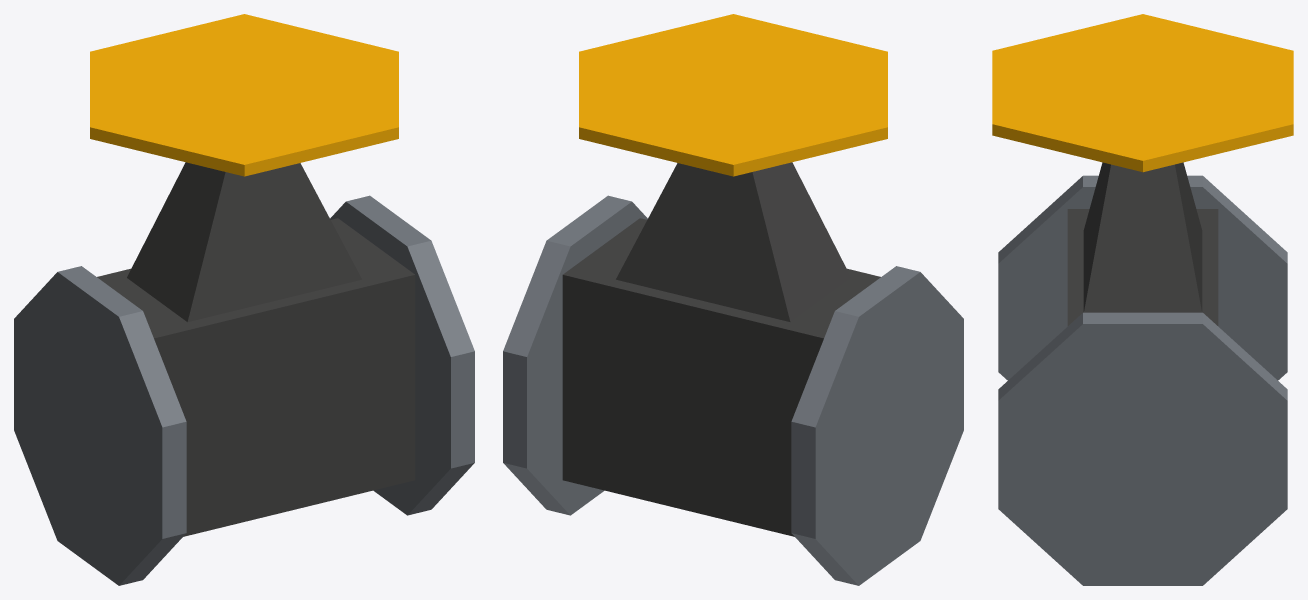
The model's file is valve_large.glb.
3 views of the same model, side by side, from view 1: azimuth 30°, elevation 25°; view 2: azimuth 150°, elevation 25°; view 3: azimuth 270°, elevation 25° (orthographic). The views are drawn at different scales.
Visible parts, largest first — view 1: valve_large; view 2: valve_large; view 3: valve_large.
Part boxes in pixels (left/top/right/bottom): valve_large: left=14, top=14, right=474, bottom=585; valve_large: left=503, top=14, right=963, bottom=585; valve_large: left=992, top=14, right=1293, bottom=585.
Size of the model in its own units: 0.7 by 0.933 by 0.6.
